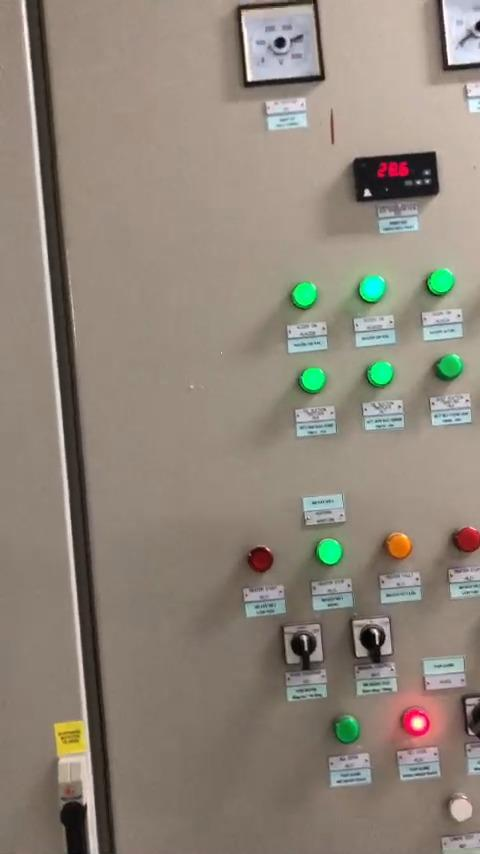led: (245, 539, 278, 575), (327, 710, 361, 744), (428, 268, 463, 301), (400, 704, 433, 739), (446, 521, 480, 554), (442, 791, 473, 825), (288, 278, 319, 309), (379, 531, 409, 561), (365, 359, 395, 388), (317, 536, 346, 566), (359, 274, 388, 303), (300, 364, 329, 393), (435, 353, 465, 381)
twist: (283, 620, 325, 666), (353, 613, 394, 659), (460, 695, 480, 739)
